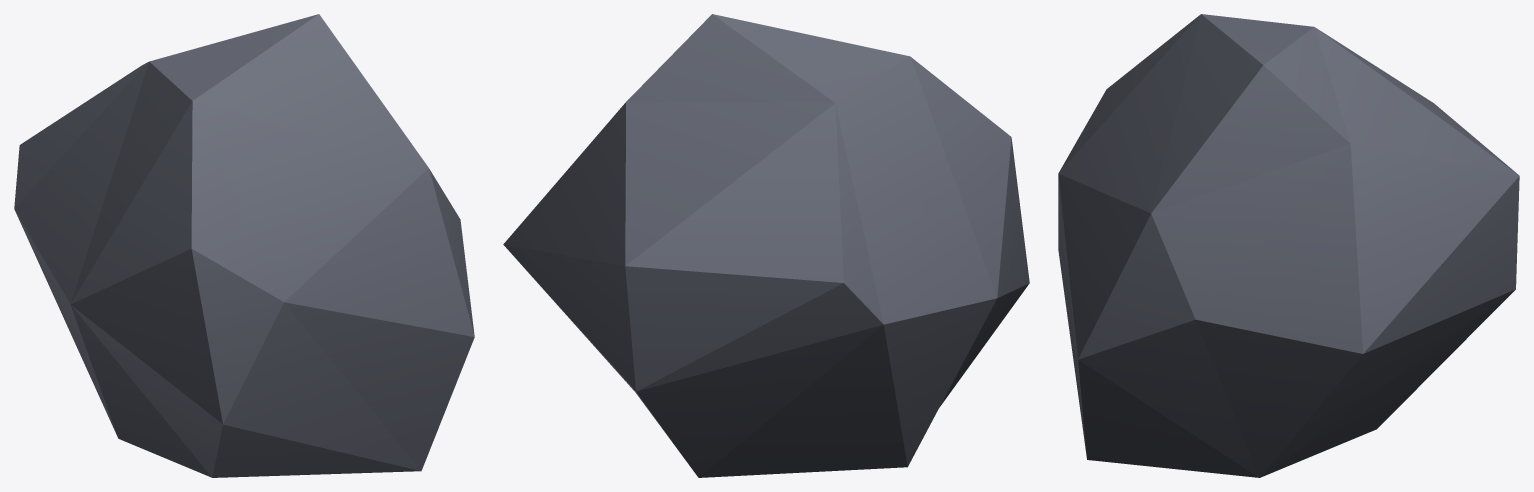
File: Rock_01.fbx
The picture shows the model from 3 angles, left to right: view 1: azimuth 30°, elevation 25°; view 2: azimuth 150°, elevation 25°; view 3: azimuth 270°, elevation 25°; orthographic projection. The views are drawn at different scales.
Parts seen in each view (by area): view 1: Rock_01; view 2: Rock_01; view 3: Rock_01.
Boxes of the visible parts, box(x1,y1,x2,y2) form: Rock_01: box(14, 14, 474, 477); Rock_01: box(503, 14, 1029, 477); Rock_01: box(1058, 14, 1519, 477).
Bounding box in the file's own units: 0.7982 × 0.7332 × 0.7888.
